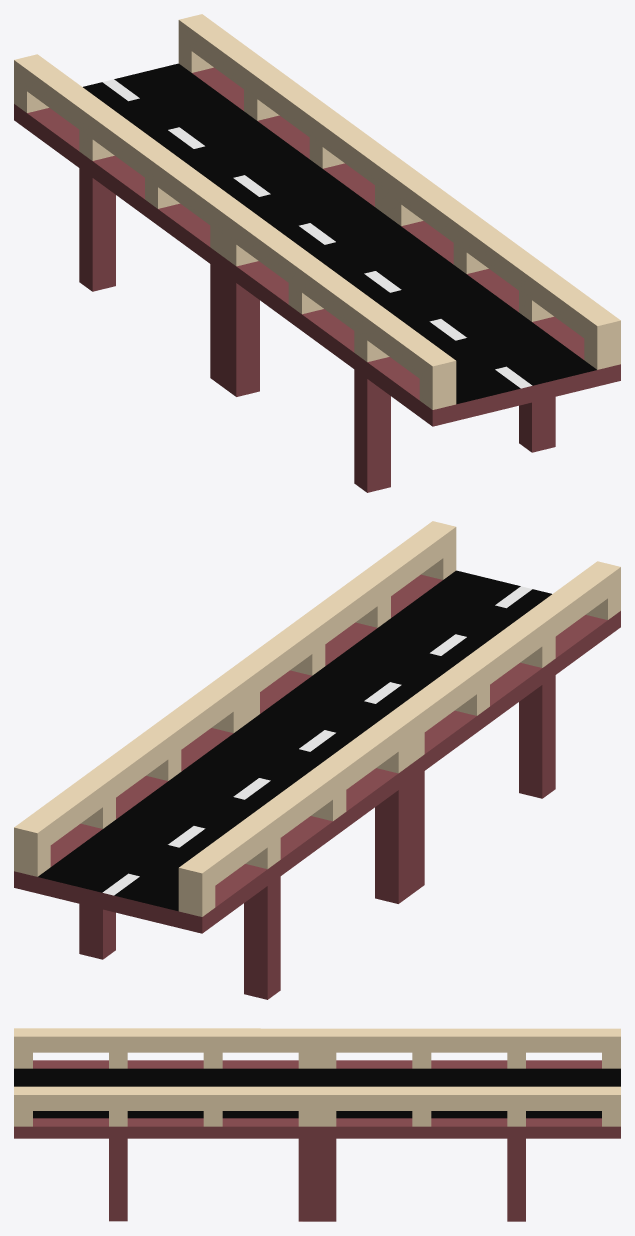
The model's file is hasi_model.fbx.
3 views of the same model, one above another, from view 1: azimuth 30°, elevation 25°; view 2: azimuth 150°, elevation 25°; view 3: azimuth 270°, elevation 25° (orthographic). The views are drawn at different scales.
Parts seen in each view (by area): view 1: 立方体; view 2: 立方体; view 3: 立方体.
Part boxes in pixels (x1=…): 立方体: x1=14, y1=14, x2=620, y2=492; 立方体: x1=14, y1=521, x2=620, y2=999; 立方体: x1=14, y1=1028, x2=620, y2=1221.
Size of the model in its own units: 200 by 177 by 771.
